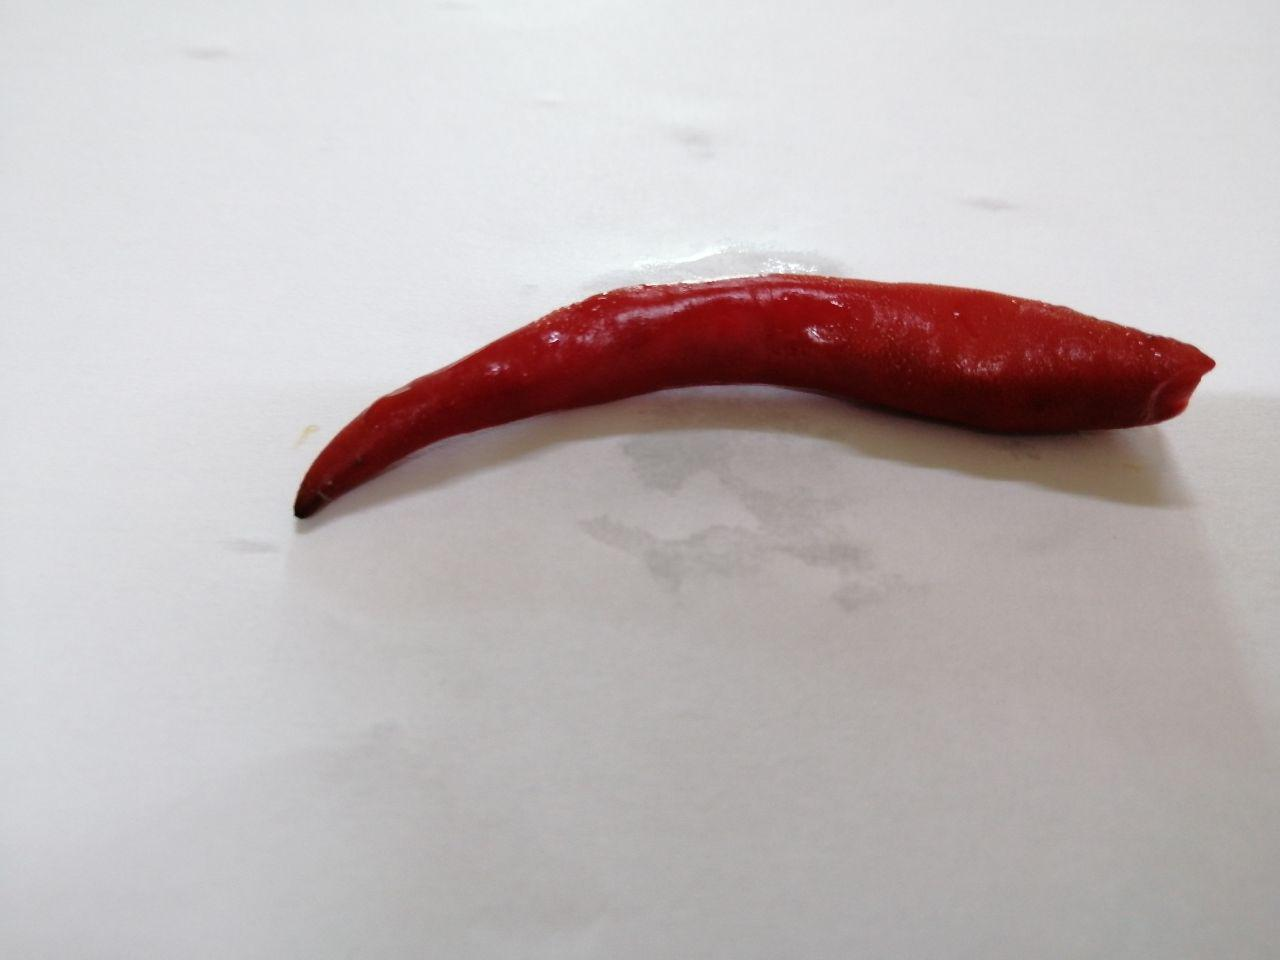lada merah: (274, 239, 1228, 568)
